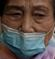mask_weared_incorrect: (2, 2, 55, 59)
